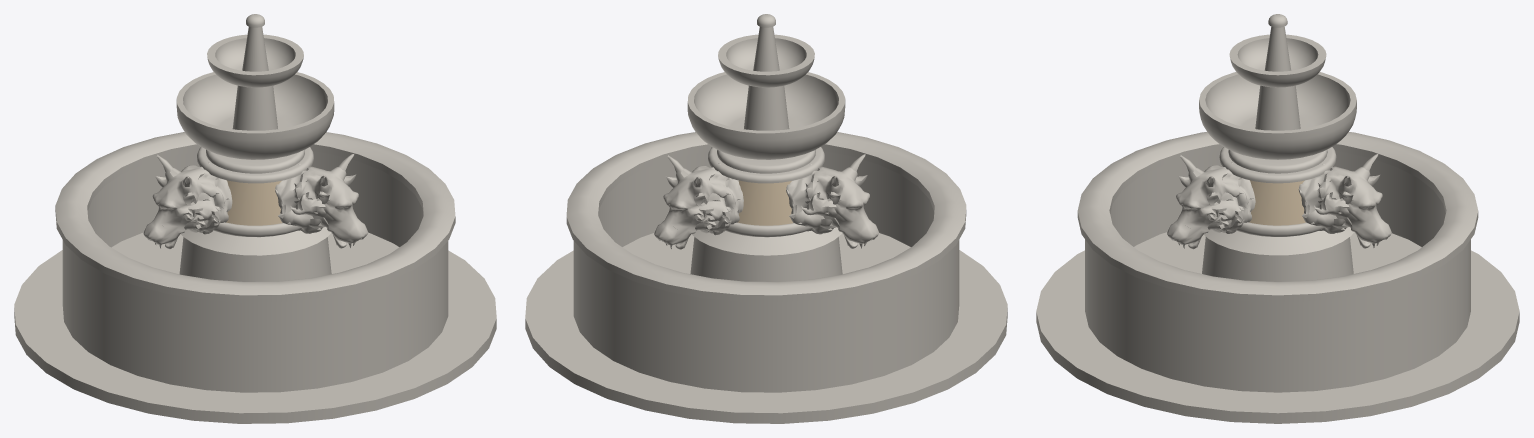
The model's file is kb3d_fountain.glb.
The picture shows the model from 3 angles, left to right: view 1: azimuth 30°, elevation 25°; view 2: azimuth 150°, elevation 25°; view 3: azimuth 270°, elevation 25°; orthographic projection.
Visible parts, largest first — view 1: EXPORT_kb3d_fountain; view 2: EXPORT_kb3d_fountain; view 3: EXPORT_kb3d_fountain.
Part boxes in pixels (x1,y1,x2,y2): EXPORT_kb3d_fountain: (14, 14, 496, 423); EXPORT_kb3d_fountain: (525, 14, 1007, 423); EXPORT_kb3d_fountain: (1036, 14, 1519, 423).
Size of the model in its own units: 3.9 by 2.73 by 3.9.
